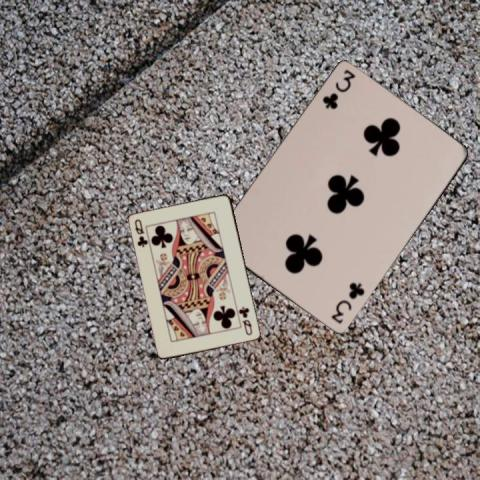3c: (328, 279, 367, 326), (320, 68, 358, 112)
Qc: (237, 303, 254, 337), (132, 216, 149, 249)
